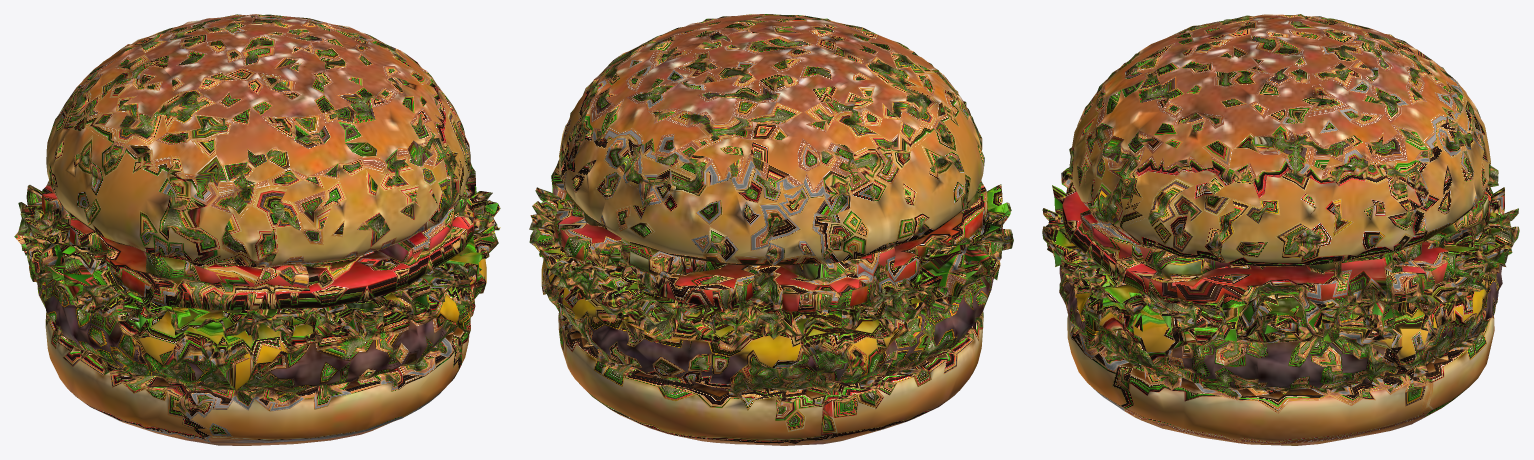
The picture shows the model from 3 angles, left to right: view 1: azimuth 30°, elevation 25°; view 2: azimuth 150°, elevation 25°; view 3: azimuth 270°, elevation 25°; orthographic projection.
Bounding box in the file's own units: 1.9 × 1.4 × 1.87.
Materials: 1 (1 with a texture image).
